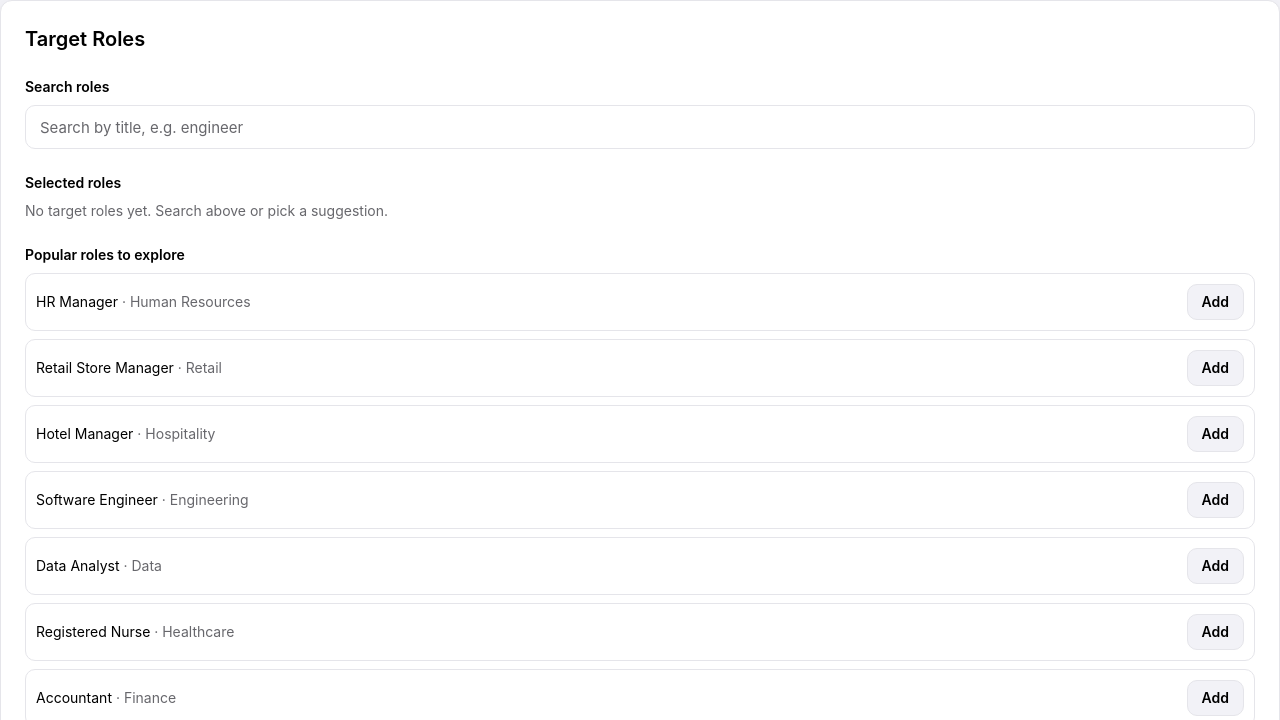
Test: related roles › renders the authored explanation and only selects on an explicit add
Expected: the text "No target roles yet. Search above or pick a suggestion." is shown, [25,202,388,219]
Type "Accountant" into the dropdown named "Search target roles" at (640, 127), box [25,105,1255,149]
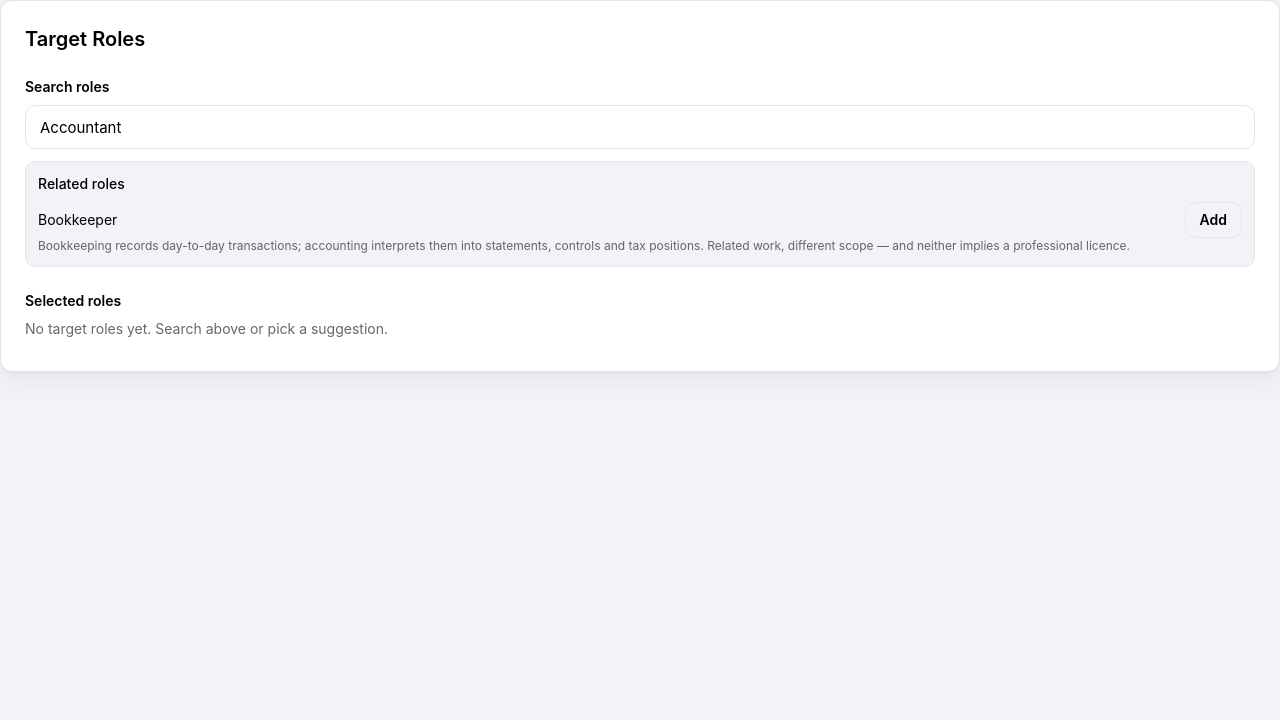
Expected: the text "Related roles" is shown, [38,175,125,192]
Expected: the text "Bookkeeping records day-to-day transactions" is shown, [38,238,1130,253]
Expected: the text "Bookkeeper" is shown, [38,210,117,230]
